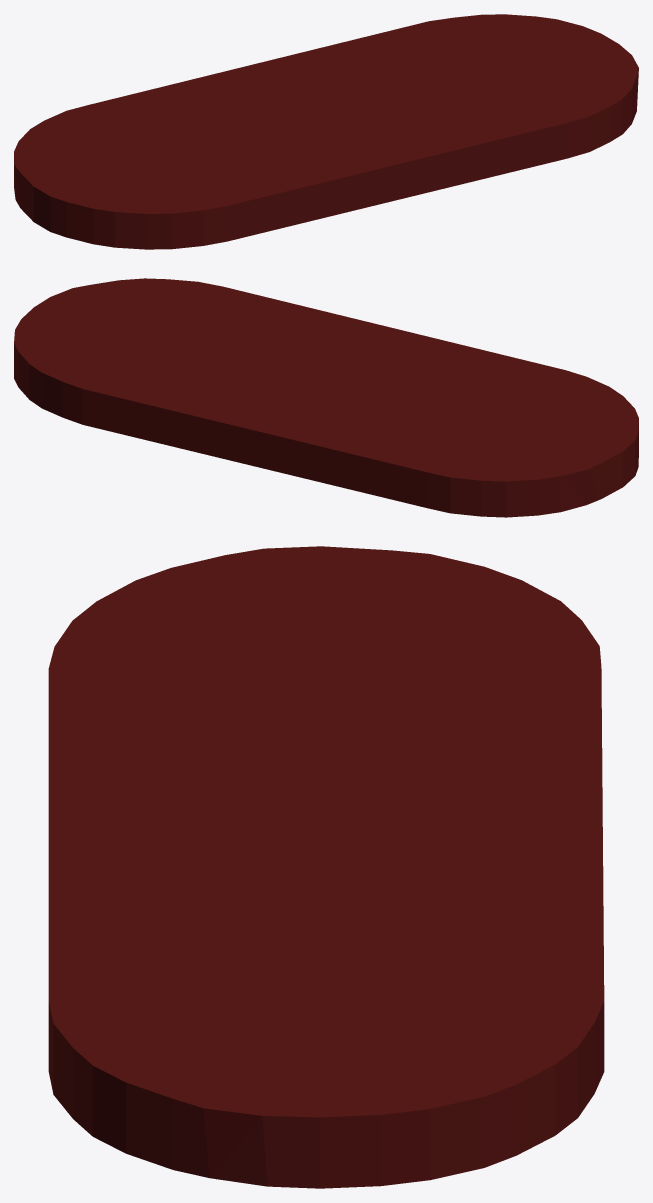
Rendered from track2.obj.
3 views of the same model, one above another, from view 1: azimuth 30°, elevation 25°; view 2: azimuth 150°, elevation 25°; view 3: azimuth 270°, elevation 25° (orthographic). The views are drawn at different scales.
Visible parts, largest first — view 1: Cube; view 2: Cube; view 3: Cube.
Part boxes in pixels (x1=…): Cube: x1=14, y1=14, x2=638, y2=249; Cube: x1=14, y1=278, x2=638, y2=517; Cube: x1=48, y1=546, x2=604, y2=1188.
Size of the model in its own units: 34.4 by 2.45 by 14.15.
